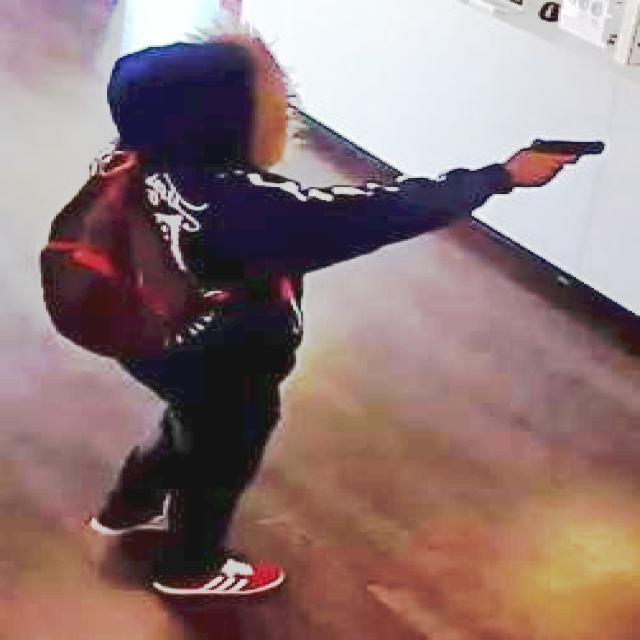Gun: (522, 122, 610, 185)
